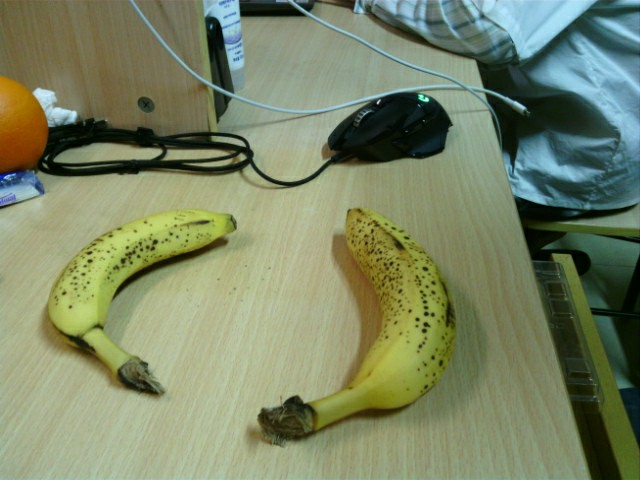normal_banana: (257, 207, 457, 441), (49, 208, 239, 397)
